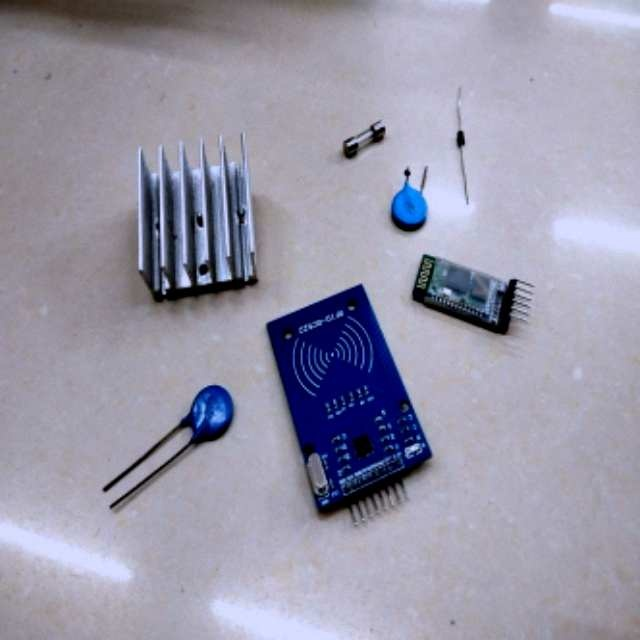capacitor: (188, 386, 233, 442), (392, 187, 428, 232)
